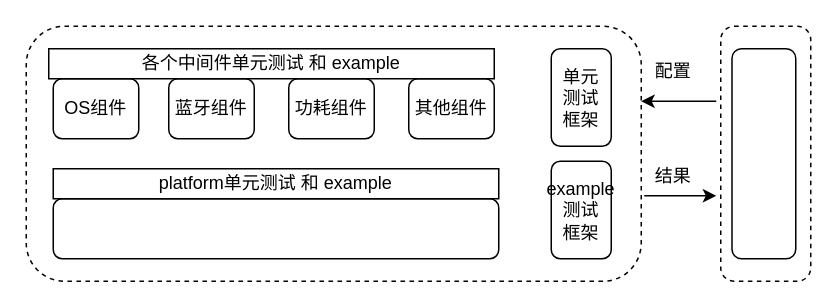
This 837x308 diagram has some shape labels left out. The shapes that lost their labels are listed below. From the top down, each one's centre as x and y in pixels, then its label:
(x=763, y=153): 测试服务器
(x=275, y=228): 驱动BSP支持 (platform组件)
